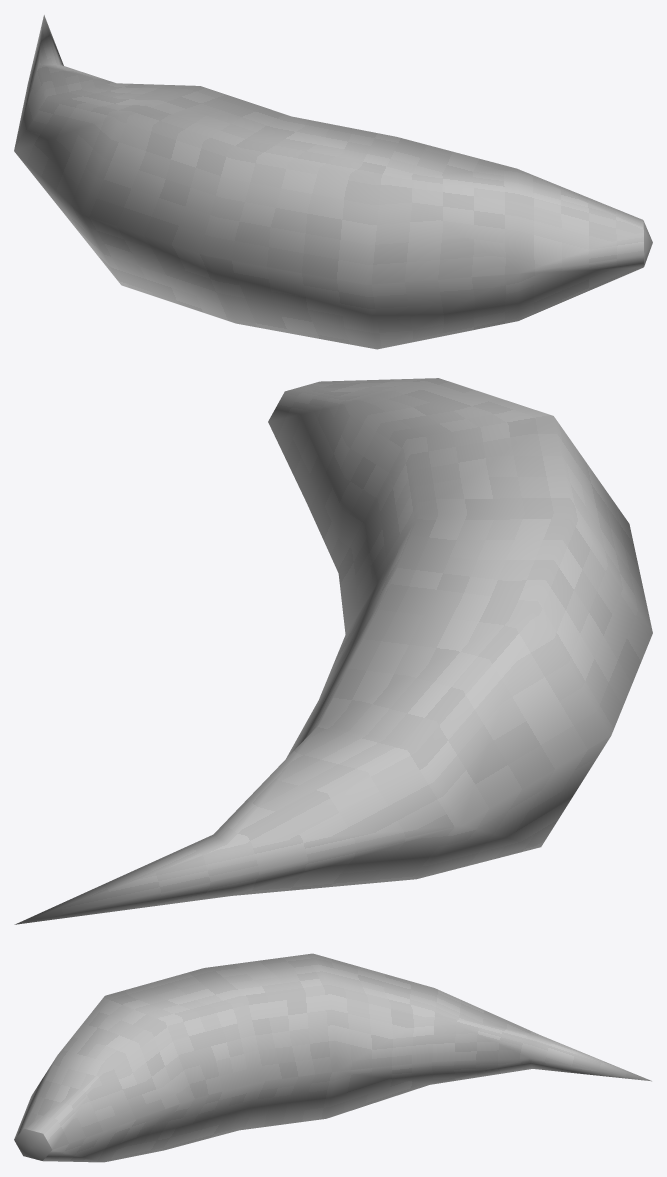
The model's file is banana.obj.
The picture shows the model from 3 angles, top to bottom: view 1: azimuth 30°, elevation 25°; view 2: azimuth 150°, elevation 25°; view 3: azimuth 270°, elevation 25°; orthographic projection. The views are drawn at different scales.
Visible parts, largest first — view 1: Cylinder02; view 2: Cylinder02; view 3: Cylinder02.
Part boxes in pixels (x1,y1,x2,y2): Cylinder02: (14,15,652,349); Cylinder02: (14,378,652,924); Cylinder02: (14,953,651,1162).
Bounding box in the file's own units: 17.21 × 7.18 × 30.73.
